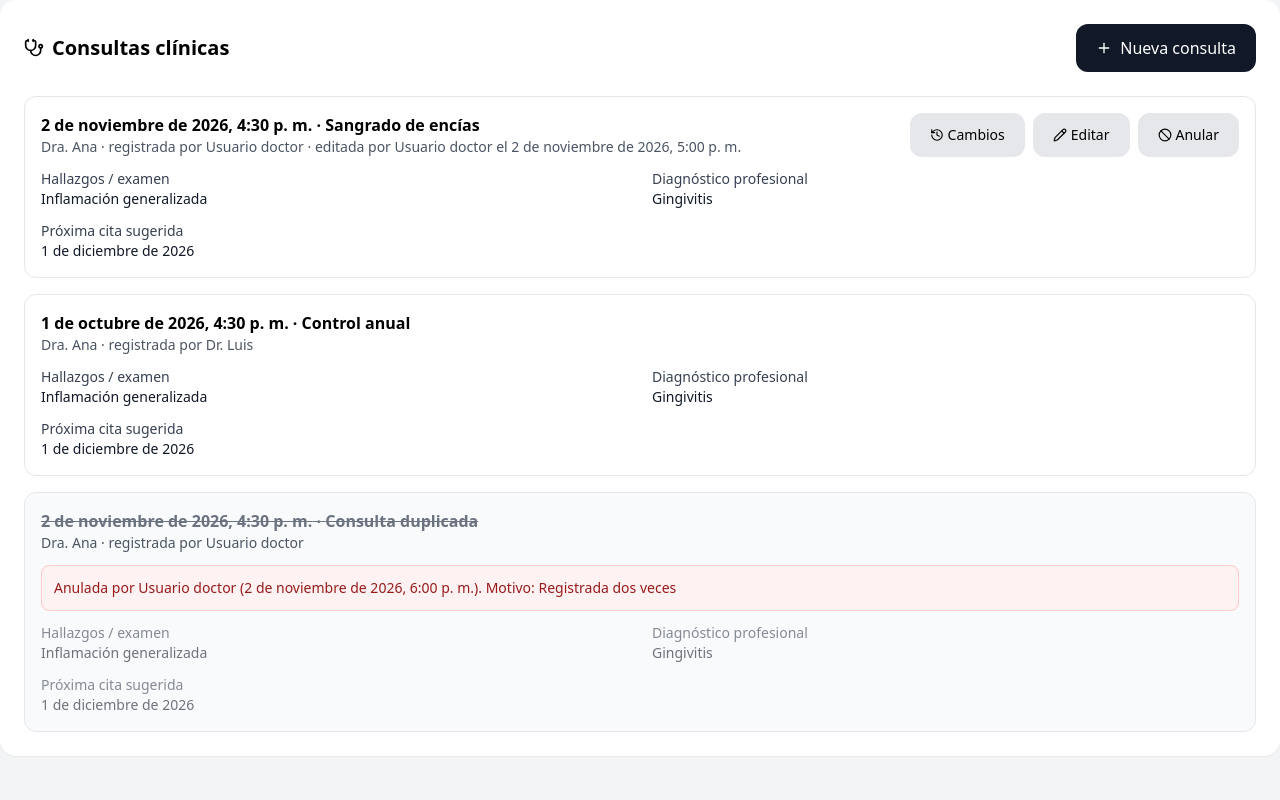
ClinicalVisitsCard › muestra el historial de cambios
The image size is (1280, 800).
expect the text "2 de noviembre de 2026, 4:30 p. m. · Sangrado de encías" is shown: met, box [41,114,480,136]
Click the button "Cambios": (967, 135) [910,113,1025,157]
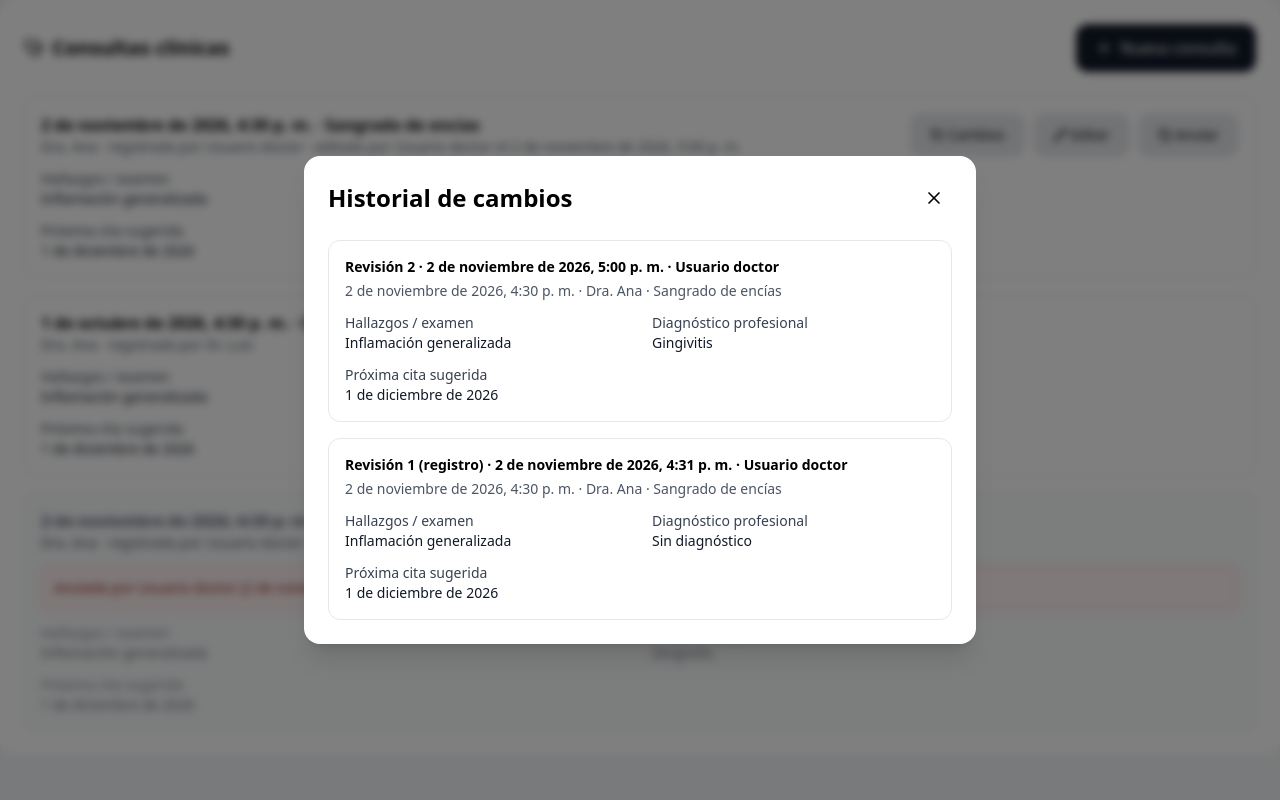
expect the text "Revisión 1 (registro)" is shown: met, box [345,455,935,475]
expect the text "Sin diagnóstico" is shown: met, box [652,531,752,550]
